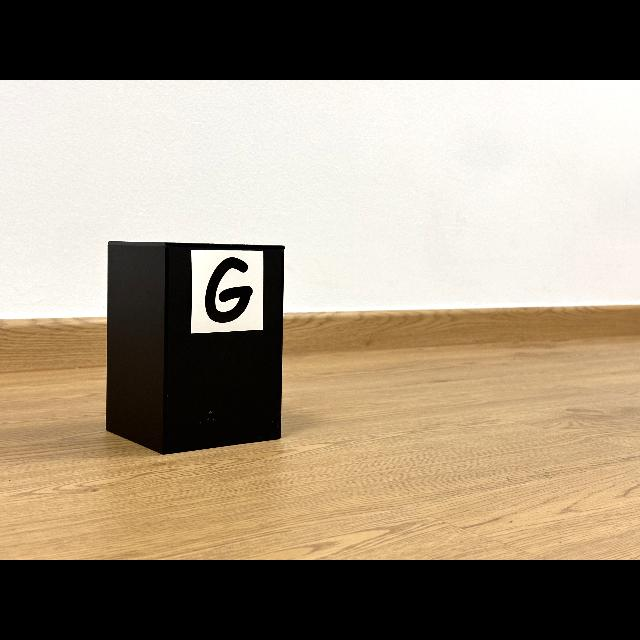G: (205, 258, 252, 322)
